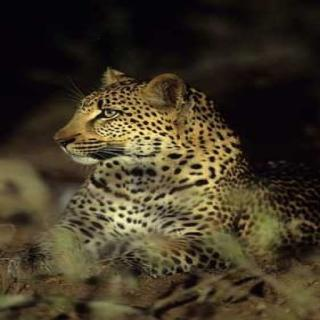Leopard: (65, 95, 320, 303)
